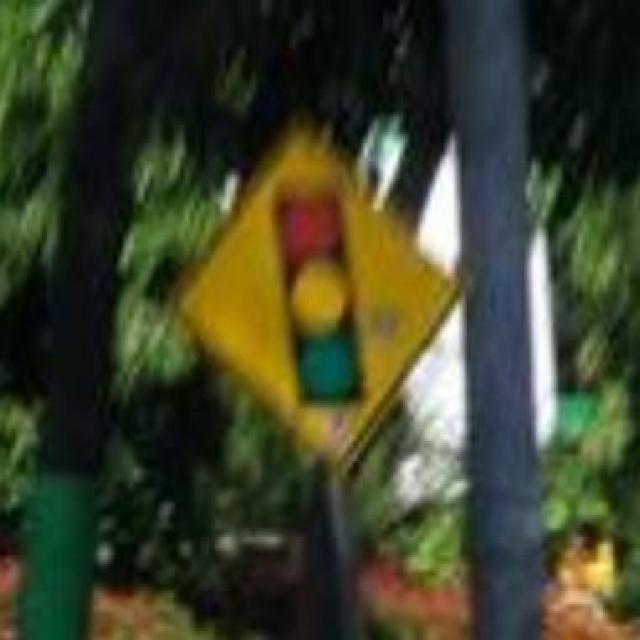traffic sign: (188, 141, 447, 459)
